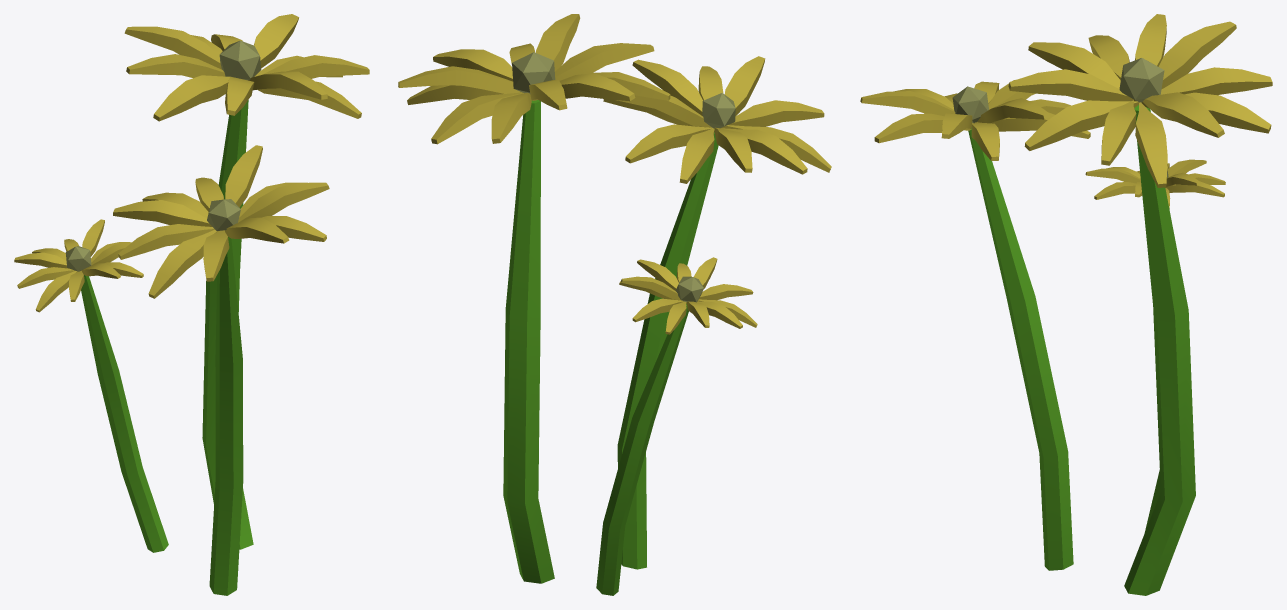
File: Daisy.fbx
The picture shows the model from 3 angles, left to right: view 1: azimuth 30°, elevation 25°; view 2: azimuth 150°, elevation 25°; view 3: azimuth 270°, elevation 25°; orthographic projection. The views are drawn at different scales.
Visible parts, largest first — view 1: petals, stems, centers; view 2: petals, stems, centers; view 3: petals, stems, centers.
Part boxes in pixels (bbox=[...]): petals: bbox=[14, 14, 369, 312]; stems: bbox=[81, 100, 253, 595]; centers: bbox=[65, 40, 261, 271]; petals: bbox=[398, 14, 831, 334]; stems: bbox=[503, 100, 718, 595]; centers: bbox=[512, 52, 735, 302]; petals: bbox=[860, 14, 1272, 209]; stems: bbox=[968, 105, 1195, 595]; centers: bbox=[952, 58, 1168, 177].
Bounding box in the file's own units: 0.2258 × 0.3397 × 0.2352.
